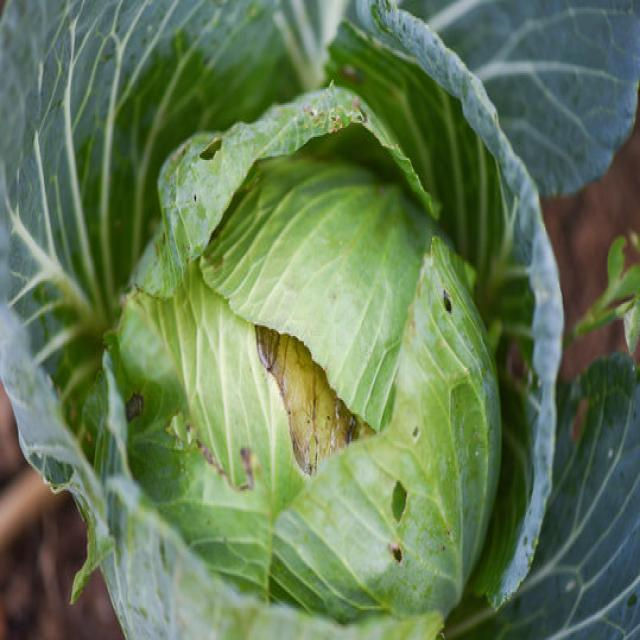rotten cabbage: (67, 124, 543, 640)
